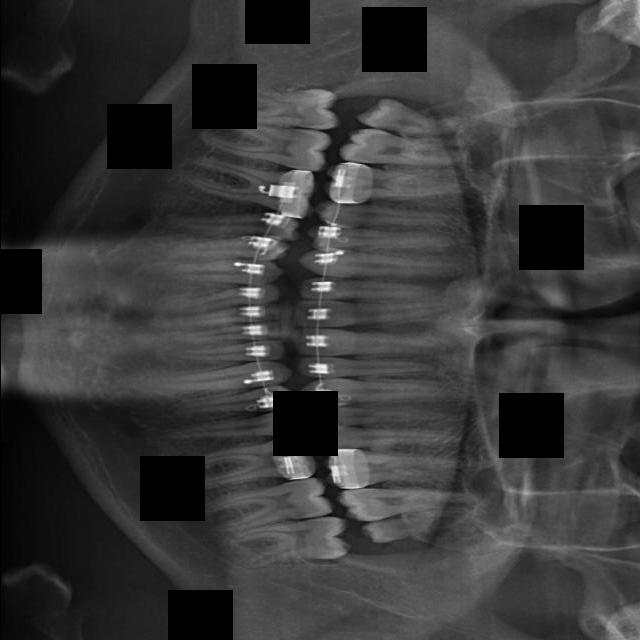3M ESPE Implant: (353, 92, 470, 146)
AGS Medikal Implant: (191, 473, 336, 538)
AMerOss Implant: (170, 431, 320, 494)
Amalgam filling: (336, 125, 475, 174)
Anthogyr Implant: (162, 406, 305, 453)
Bicon Implant: (167, 381, 299, 430)
BioHorizons Implant: (135, 357, 294, 402)
BioLife Implant: (167, 338, 286, 369)
Biomet 3i Implant: (183, 320, 283, 347)
Blue Sky Bio Implant: (160, 301, 282, 333)
Camlog Implant: (174, 280, 281, 316)
Caries: (295, 356, 440, 378)
Composite filling: (145, 259, 282, 284)
Cowellmedi Implant: (168, 236, 289, 260)
Crown: (158, 200, 303, 243)
DENTSPLY Implant: (322, 162, 472, 205)
Dentatus Implant: (177, 148, 321, 219)
Dentis Implant: (196, 108, 334, 174)
Dentium Implant: (218, 79, 343, 131)
Euroteknika Implant: (315, 201, 474, 230)
Filling: (308, 224, 457, 250)
Frontier Implant: (296, 247, 478, 285)
Hiossen Implant: (299, 371, 465, 407)
Implant: (291, 299, 470, 328)
Implant Direct: (297, 276, 447, 304)
Keystone Dental Implant: (292, 328, 457, 357)
MIS Implant: (303, 397, 452, 432)
Mandible: (314, 418, 464, 454)
Maxilla: (321, 445, 457, 490)
Megagen Implant: (335, 479, 486, 524)
Neodent Implant: (358, 503, 463, 548)
Neoss Implant: (222, 510, 355, 578)
